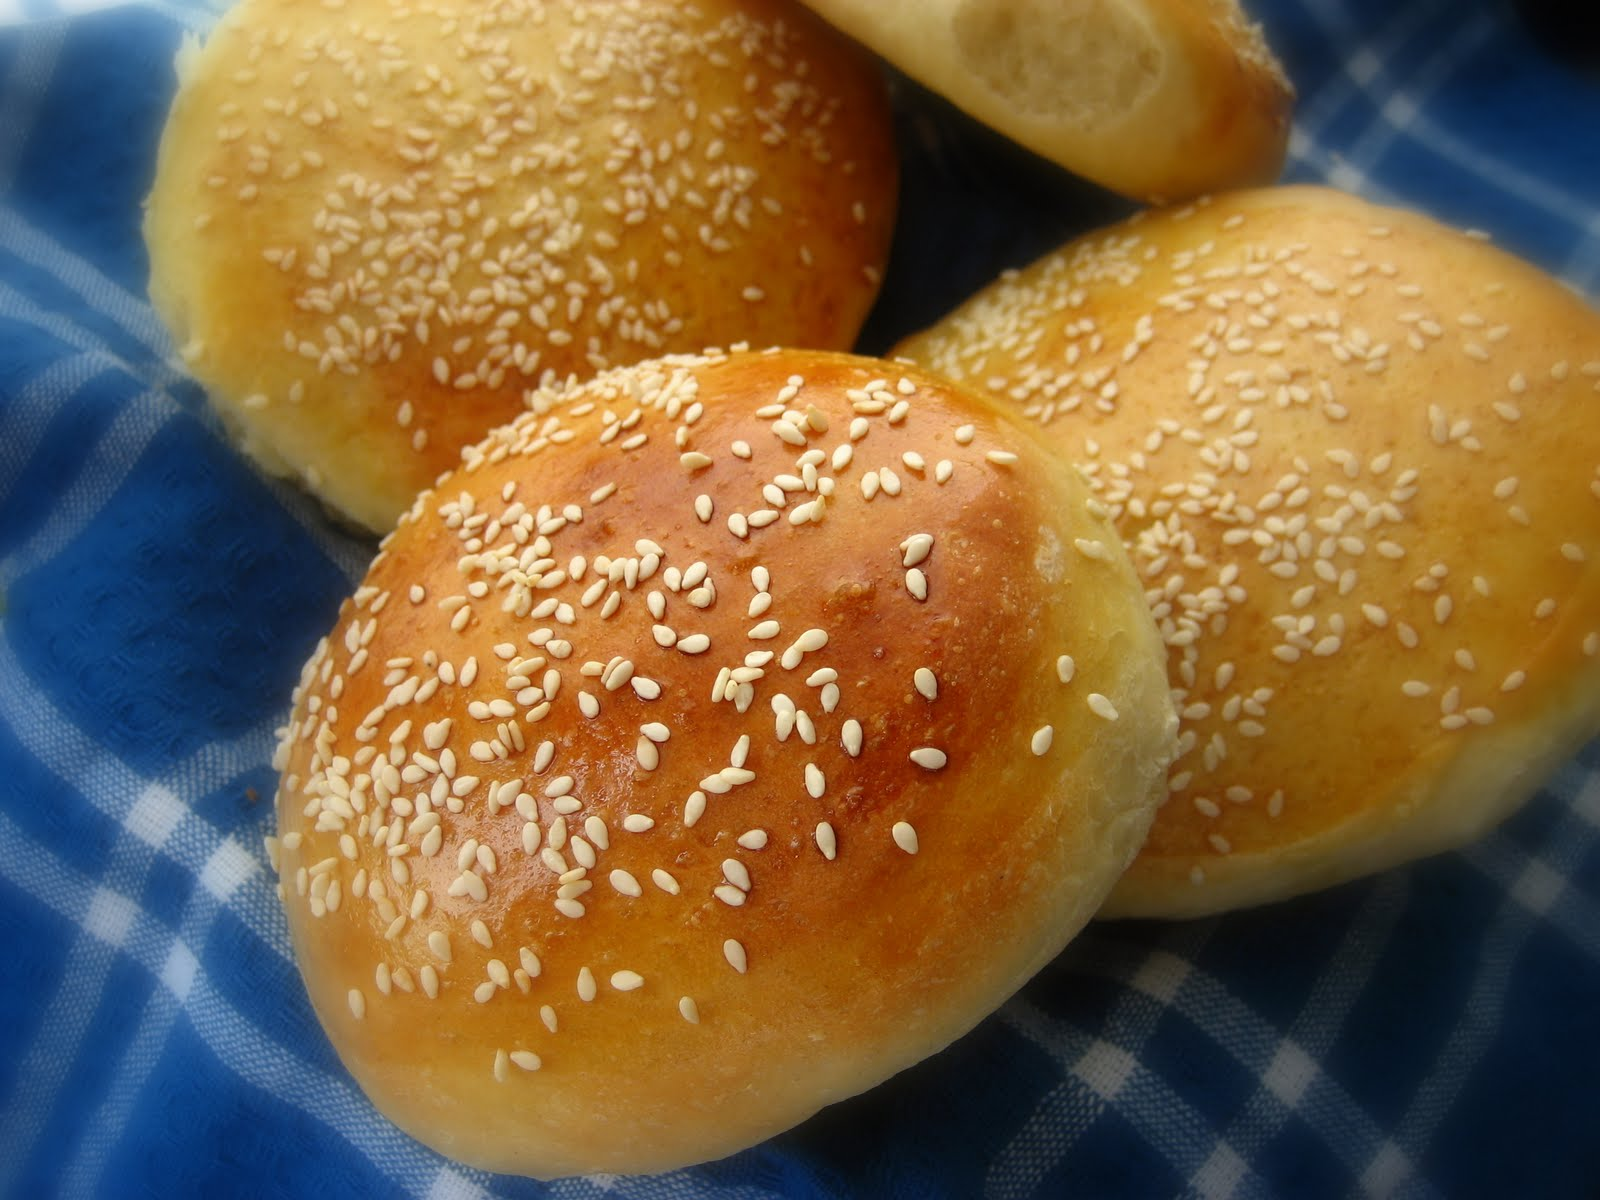hamburger_buns: (263, 310, 1167, 1168), (920, 221, 1600, 903)
